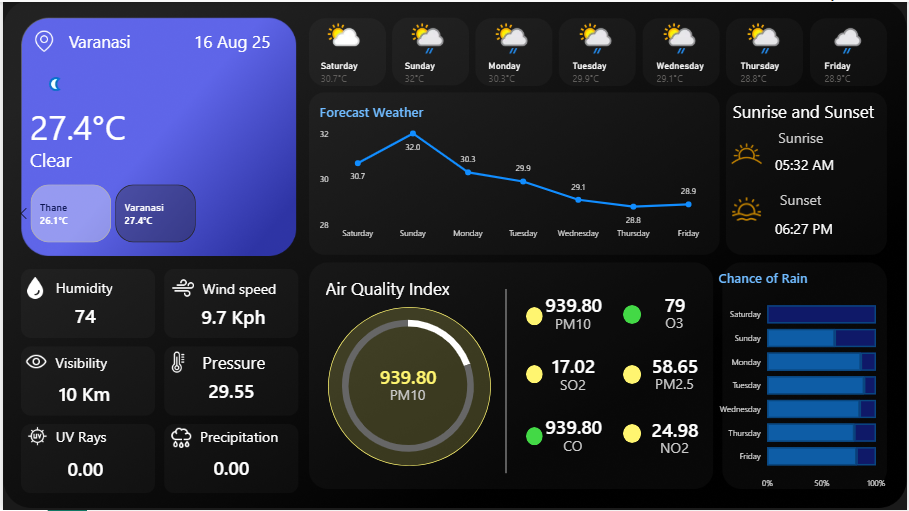

Layout of this report page (visuals, bound fields, positions):
{"tool":"powerbi","page":{"name":"Page 1","canvas":[1280,720],"ordinal":0},"visuals":[{"type":"shape","box":[79.1,35.9,118.2,38.3],"z":0,"group":"g7"},{"type":"group","id":"g1","title":"Group 2","box":[892.1,405.6,121.7,74.2],"z":0,"group":"g8"},{"type":"card","fields":{"Values":["Sum(current.current.air_quality.o3)"]},"box":[892.1,405.6,121.7,48.5],"z":0,"group":"g1"},{"type":"card","fields":{"Values":["Sum(current.current.air_quality.co)"]},"box":[752.7,406.7,112.3,46.8],"z":0,"group":"g3"},{"type":"shape","box":[460,431.8,230.9,225.5],"z":0},{"type":"card","fields":{"Values":["Sum(current.current.air_quality.pm2_5)"]},"box":[891.8,491.9,121.7,48.5],"z":0,"group":"g5"},{"type":"card","fields":{"Values":["Sum(current.current.air_quality.so2)"]},"box":[753,492.7,112.3,46.8],"z":0,"group":"g6"},{"type":"card","fields":{"Values":["Sum(current.current.air_quality.co)"]},"box":[526.4,508.2,96.7,46.7],"z":0,"group":"g10"},{"type":"group","id":"g2","title":"Group 2","box":[752.7,580.1,112.3,71.6],"z":0,"group":"g9"},{"type":"card","fields":{"Values":["Sum(current.current.air_quality.co)"]},"box":[752.7,580.1,112.3,46.8],"z":0,"group":"g2"},{"type":"card","fields":{"Values":["Sum(current.current.air_quality.no2)"]},"box":[892.1,582.5,121.7,48.5],"z":0,"group":"g4"},{"type":"image","box":[38.8,25,40.3,60.1],"z":1000,"group":"g7"},{"type":"advancedSlicerVisual","fields":{"Values":["Locations.location.name"]},"box":[14,254,404,92],"z":1000},{"type":"group","id":"g3","title":"Group 2","box":[752.7,406.7,112.3,71.6],"z":1000,"group":"g9"},{"type":"shape","box":[904.8,429.9,94.8,49.9],"z":1000,"group":"g1"},{"type":"shape","box":[764.5,430.1,87.5,48.2],"z":1000,"group":"g3"},{"type":"shape","box":[764.8,516.1,87.5,48.2],"z":1000,"group":"g6"},{"type":"shape","box":[904.5,516.2,94.8,49.9],"z":1000,"group":"g5"},{"type":"shape","box":[536.5,531.5,75.3,48],"z":1000,"group":"g10"},{"type":"group","id":"g4","title":"Group 2","box":[892.1,582.5,121.7,74.2],"z":1000,"group":"g8"},{"type":"shape","box":[764.5,603.5,87.5,48.2],"z":1000,"group":"g2"},{"type":"shape","box":[904.8,606.8,94.8,49.9],"z":1000,"group":"g4"},{"type":"shape","box":[38.8,128.8,156.2,92.5],"z":2000},{"type":"group","id":"g5","title":"Group 2","box":[891.8,491.9,121.8,73.9],"z":2000,"group":"g8"},{"type":"group","id":"g6","title":"Group 2","box":[753,492.7,112.5,71.3],"z":2000,"group":"g9"},{"type":"shape","box":[38.3,175,258.3,95],"z":3000},{"type":"shape","box":[741.1,432,23.8,26],"z":3000,"group":"g9"},{"type":"shape","box":[878.9,597.8,25.8,27],"z":3000,"group":"g8"},{"type":"shape","box":[268,30,114,50],"z":4000},{"type":"shape","box":[741.1,514.9,23.8,26],"z":4000,"group":"g9"},{"type":"shape","box":[878.9,514.9,25.8,27],"z":4000,"group":"g8"},{"type":"group","id":"g7","title":"Group 1","box":[38.8,25,157.5,60],"z":5000},{"type":"shape","box":[878.9,429,25.8,27],"z":5000,"group":"g8"},{"type":"shape","box":[741.1,602.6,23.8,26],"z":5000,"group":"g9"},{"type":"multiRowCard","fields":{"Values":["current.current.condition.icon"]},"box":[38.8,80,88.8,85],"z":6000},{"type":"image","box":[24.5,380,42.7,50],"z":7000},{"type":"image","box":[234.3,380,42.9,50],"z":8000},{"type":"image","box":[24.5,488.2,46.4,43.6],"z":9000},{"type":"image","box":[228.2,490,40,40],"z":10000},{"type":"image","box":[29.1,595.5,38.2,40],"z":11000},{"type":"image","box":[228.2,595.5,49.1,44.5],"z":12000},{"type":"shape","box":[58.6,378.6,114.3,50],"z":13000},{"type":"shape","box":[277.5,590,113.8,50],"z":14000},{"type":"shape","box":[53.8,590,113.8,50],"z":15000},{"type":"shape","box":[270,484.3,112.9,50],"z":16000},{"type":"shape","box":[53.8,485,113.8,50],"z":17000},{"type":"shape","box":[277.1,380,114.3,50],"z":18000},{"type":"card","fields":{"Values":["Sum(current.current.humidity)"]},"box":[55.7,421.4,122.9,50],"z":19000},{"type":"card","fields":{"Values":["Sum(current.current.precip_mm)"]},"box":[265.7,635.7,117.1,48.6],"z":20000},{"type":"card","fields":{"Values":["Sum(current.current.uv)"]},"box":[55.7,640,122.9,44.3],"z":21000},{"type":"card","fields":{"Values":["Sum(current.current.pressure_in)"]},"box":[262.9,527.1,122.9,48.6],"z":22000},{"type":"card","fields":{"Values":["_Measures.vis"]},"box":[54.3,535.7,122.9,40],"z":23000},{"type":"card","fields":{"Values":["_Measures.wind_speed"]},"box":[265.7,422.9,122.9,48.6],"z":24000},{"type":"advancedSlicerVisual","fields":{"Values":["Forecast_day.day_name"]},"box":[432.9,17.1,822.9,125.7],"z":25000},{"type":"lineChart","title":"Forecast Weather","fields":{"Y":["Sum(Forecast_day.forecast.forecastday.day.avgtemp_c)"],"Category":["Forecast_day.day_name"]},"box":[444.3,142.9,564.3,202.9],"z":26000},{"type":"shape","box":[1032.9,128.6,202.9,50],"z":27000},{"type":"shape","box":[1094.3,207.1,95.7,44.3],"z":28000},{"type":"shape","box":[1094.3,300,95.7,38.6],"z":29000},{"type":"shape","box":[1082.9,165.7,95.7,50],"z":30000},{"type":"shape","box":[1082.9,254.3,95.7,50],"z":31000},{"type":"image","box":[1020,182.9,67.1,64.3],"z":32000},{"type":"image","box":[1012.9,268.6,81.4,51.4],"z":33000},{"type":"hundredPercentStackedBarChart","title":"    Chance of Rain","fields":{"Y":["Sum(Forecast_day.forecast.forecastday.day.daily_chance_of_rain)","_Measures.left"],"Category":["Forecast_day.day_name"]},"box":[1008.6,378.6,247.1,321.4],"z":34000},{"type":"shape","box":[444.3,380,202.9,50],"z":35000},{"type":"shape","box":[684.4,406.7,56.7,261.1],"z":36000},{"type":"group","id":"g8","title":"Group 3","box":[878.9,405.6,134.4,251.1],"z":37000},{"type":"group","id":"g9","title":"Group 4","box":[741.1,406.7,125.6,245.6],"z":38000},{"type":"group","id":"g10","title":"Group 2","box":[526.4,508.2,97.3,70.9],"z":39000},{"type":"donutChart","fields":{"Y":["Sum(current.current.air_quality.pm10)","_Measures.left2"]},"box":[452.7,413.6,243.6,260],"z":40000}]}

Visuals, with their boxes in screenshot pixels (x1, y1, x2, y2), scaled from the page's 1280x720 canvas onto the 909x511 screenshot:
shape: [56, 25, 140, 53]
"Group 2" group: [634, 288, 720, 341]
card - Sum(current.current.air_quality.o3): [634, 288, 720, 322]
card - Sum(current.current.air_quality.co): [535, 289, 614, 322]
shape: [327, 306, 491, 467]
card - Sum(current.current.air_quality.pm2_5): [633, 349, 720, 384]
card - Sum(current.current.air_quality.so2): [535, 350, 614, 383]
card - Sum(current.current.air_quality.co): [374, 361, 442, 394]
"Group 2" group: [535, 412, 614, 463]
card - Sum(current.current.air_quality.co): [535, 412, 614, 445]
card - Sum(current.current.air_quality.no2): [634, 413, 720, 448]
image: [28, 18, 56, 60]
advancedSlicerVisual - Locations.location.name: [10, 180, 297, 246]
"Group 2" group: [535, 289, 614, 339]
shape: [643, 305, 710, 341]
shape: [543, 305, 605, 339]
shape: [543, 366, 605, 400]
shape: [642, 366, 710, 402]
shape: [381, 377, 434, 411]
"Group 2" group: [634, 413, 720, 466]
shape: [543, 428, 605, 463]
shape: [643, 431, 710, 466]
shape: [28, 91, 138, 157]
"Group 2" group: [633, 349, 720, 402]
"Group 2" group: [535, 350, 615, 400]
shape: [27, 124, 211, 192]
shape: [526, 307, 543, 325]
shape: [624, 424, 642, 443]
shape: [190, 21, 271, 57]
shape: [526, 365, 543, 384]
shape: [624, 365, 642, 385]
"Group 1" group: [28, 18, 139, 60]
shape: [624, 304, 642, 324]
shape: [526, 428, 543, 446]
multiRowCard - current.current.condition.icon: [28, 57, 91, 117]
image: [17, 270, 48, 305]
image: [166, 270, 197, 305]
image: [17, 346, 50, 377]
image: [162, 348, 190, 376]
image: [21, 423, 48, 451]
image: [162, 423, 197, 454]
shape: [42, 269, 123, 304]
shape: [197, 419, 278, 454]
shape: [38, 419, 119, 454]
shape: [192, 344, 272, 379]
shape: [38, 344, 119, 380]
shape: [197, 270, 278, 305]
card - Sum(current.current.humidity): [40, 299, 127, 335]
card - Sum(current.current.precip_mm): [189, 451, 272, 486]
card - Sum(current.current.uv): [40, 454, 127, 486]
card - Sum(current.current.pressure_in): [187, 374, 274, 409]
card - _Measures.vis: [39, 380, 126, 409]
card - _Measures.wind_speed: [189, 300, 276, 335]
advancedSlicerVisual - Forecast_day.day_name: [307, 12, 892, 101]
"Forecast Weather" lineChart: [316, 101, 716, 245]
shape: [734, 91, 878, 127]
shape: [777, 147, 845, 178]
shape: [777, 213, 845, 240]
shape: [769, 118, 837, 153]
shape: [769, 180, 837, 216]
image: [724, 130, 772, 175]
image: [719, 191, 777, 227]
"    Chance of Rain" hundredPercentStackedBarChart: [716, 269, 892, 497]
shape: [316, 270, 460, 305]
shape: [486, 289, 526, 474]
"Group 3" group: [624, 288, 720, 466]
"Group 4" group: [526, 289, 615, 463]
"Group 2" group: [374, 361, 443, 411]
donutChart - Sum(current.current.air_quality.pm10) x _Measures.left2: [321, 294, 494, 478]
